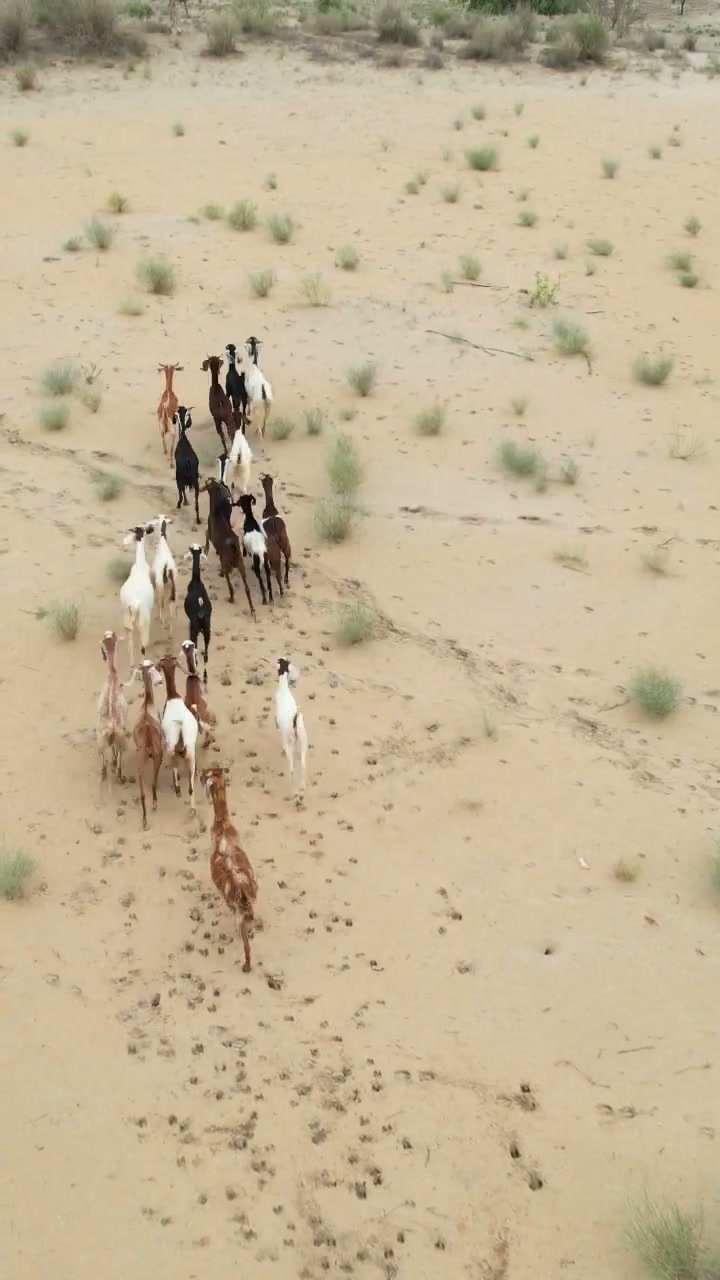animal_foot_print: (115, 680, 403, 1271)
